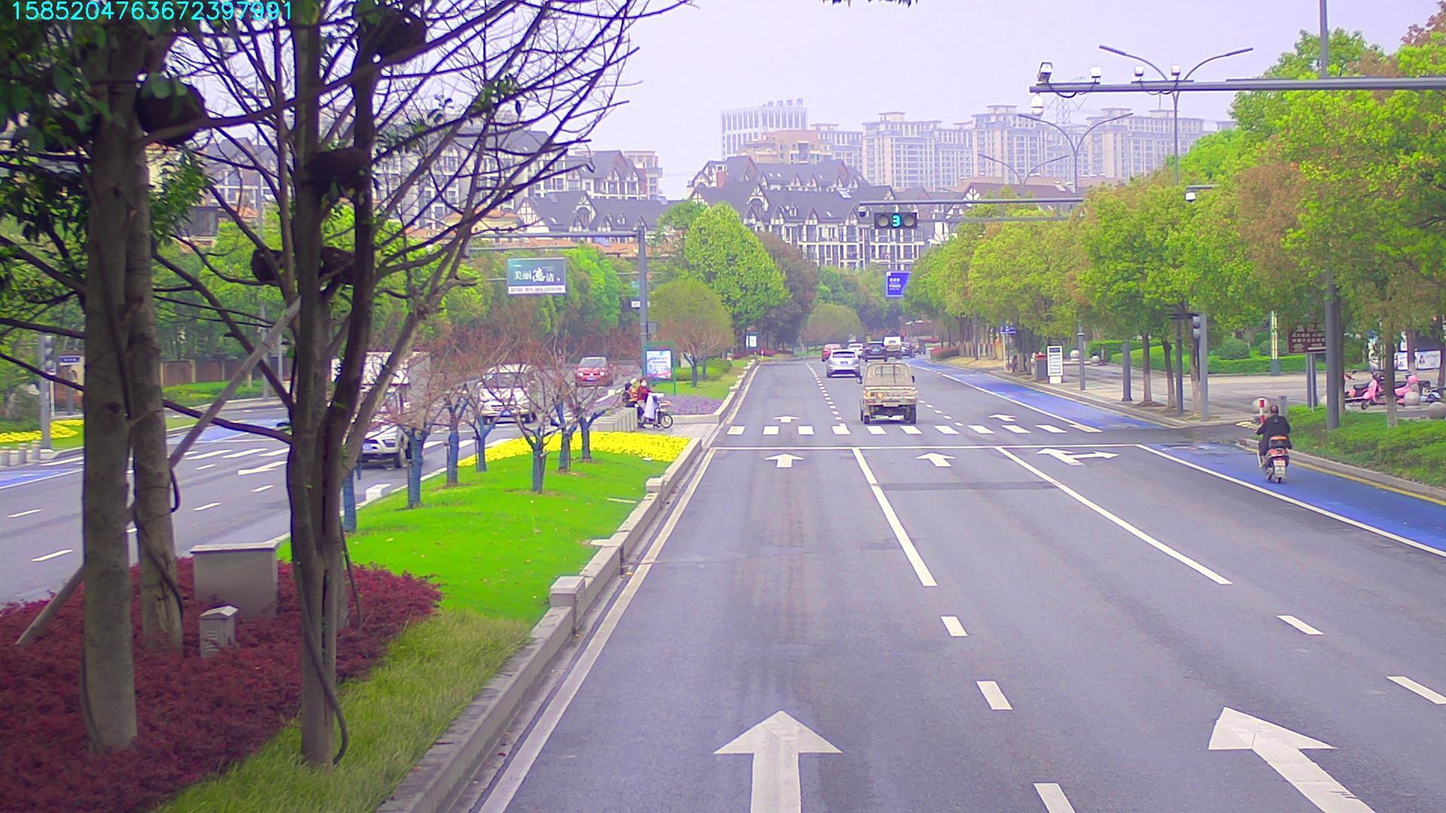green: (874, 215, 913, 230)
